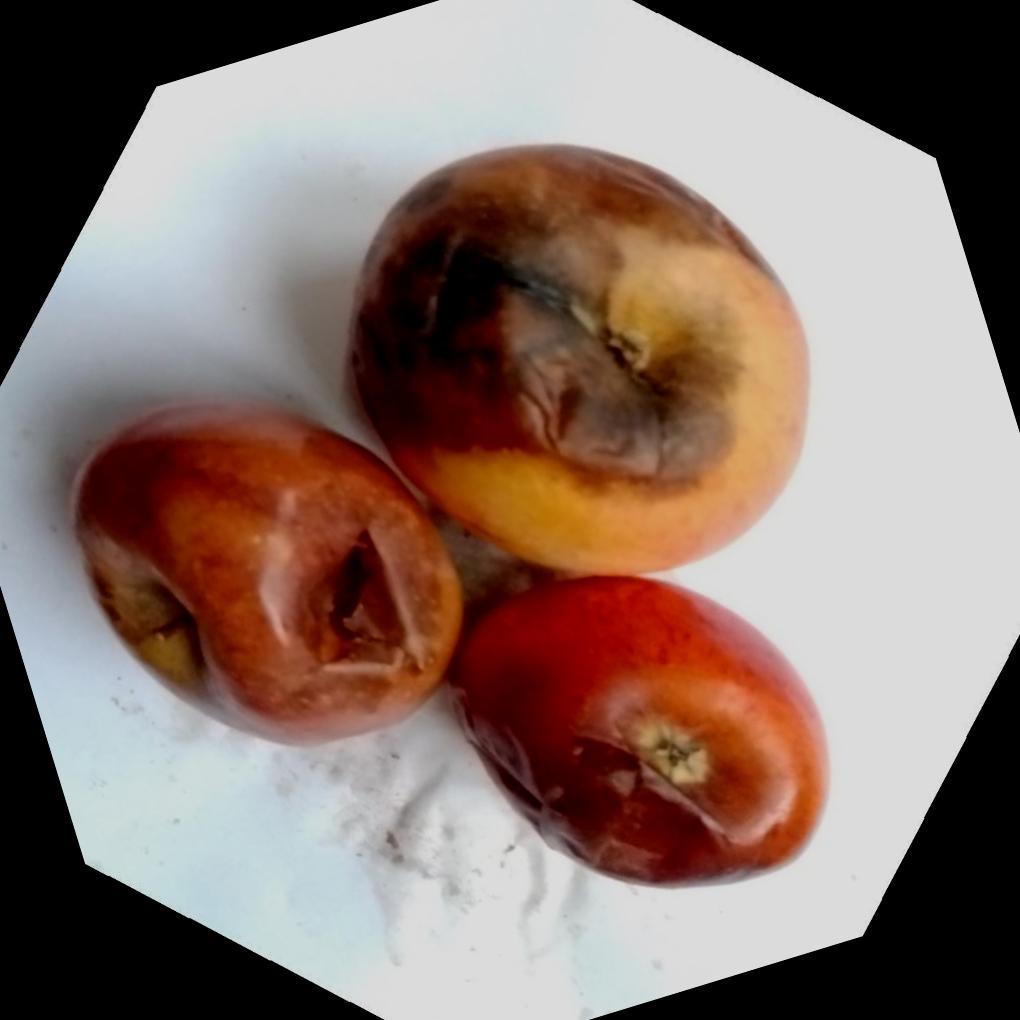FreshOrange: (68, 139, 837, 882)
